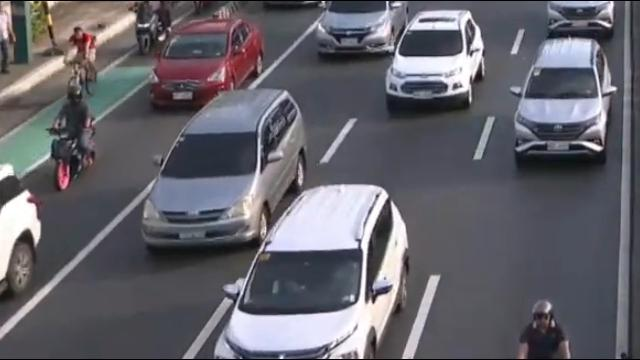car: (211, 182, 412, 360), (141, 90, 308, 252), (511, 39, 612, 165), (143, 18, 264, 108), (381, 11, 487, 109), (0, 158, 44, 306), (313, 0, 409, 55), (543, 0, 618, 35)
motorcycle: (44, 78, 99, 192), (518, 297, 568, 360), (131, 0, 160, 62)
